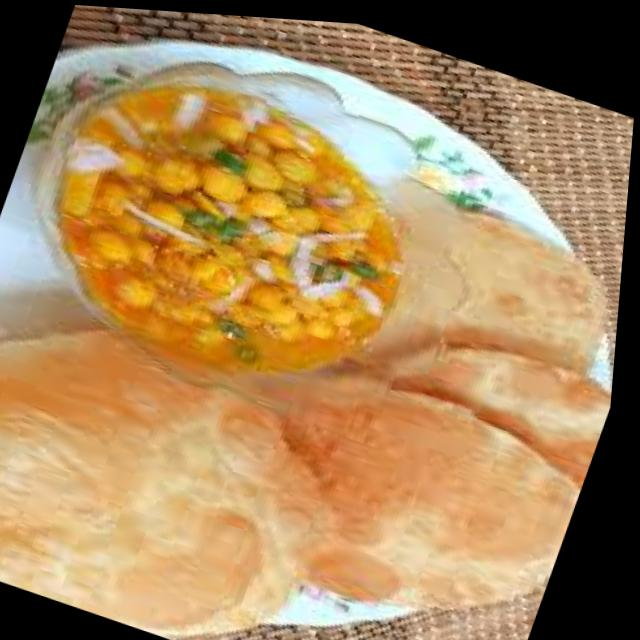CURRY: (65, 87, 409, 374)
POORI: (0, 207, 615, 633)
